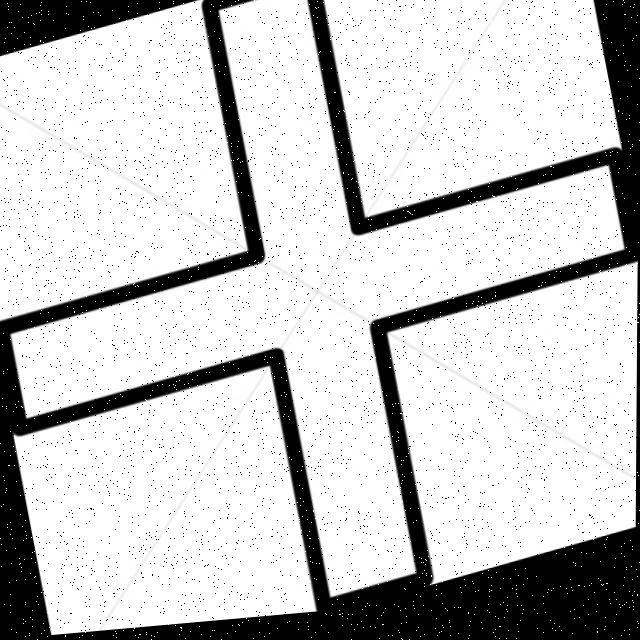cross: (9, 0, 627, 606)
